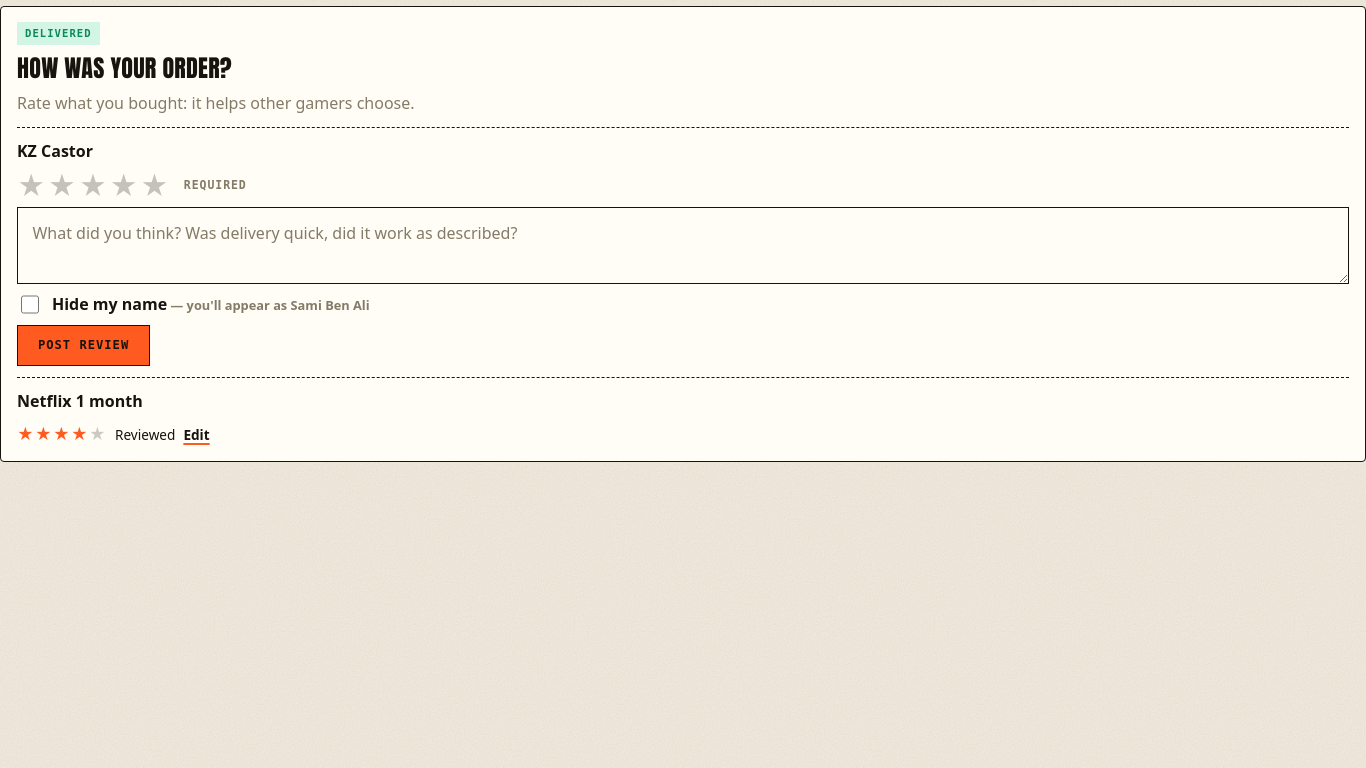
Test case: ChatReviewCard › needs a star rating before sending
Click the button "Post review": (84, 346) left=17, top=325, right=150, bottom=366
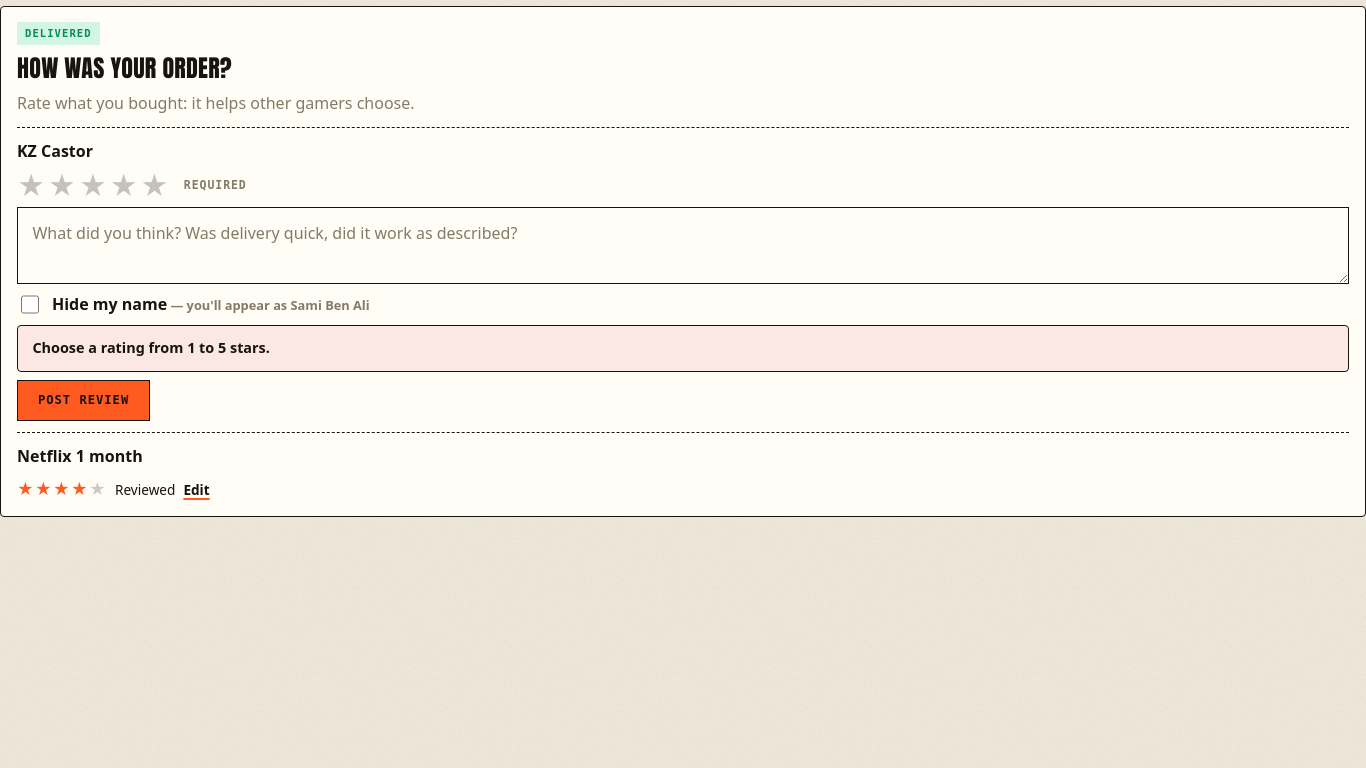
Result: the message reads "Choose a rating from 1 to 5 stars." at left=32, top=338, right=270, bottom=357
